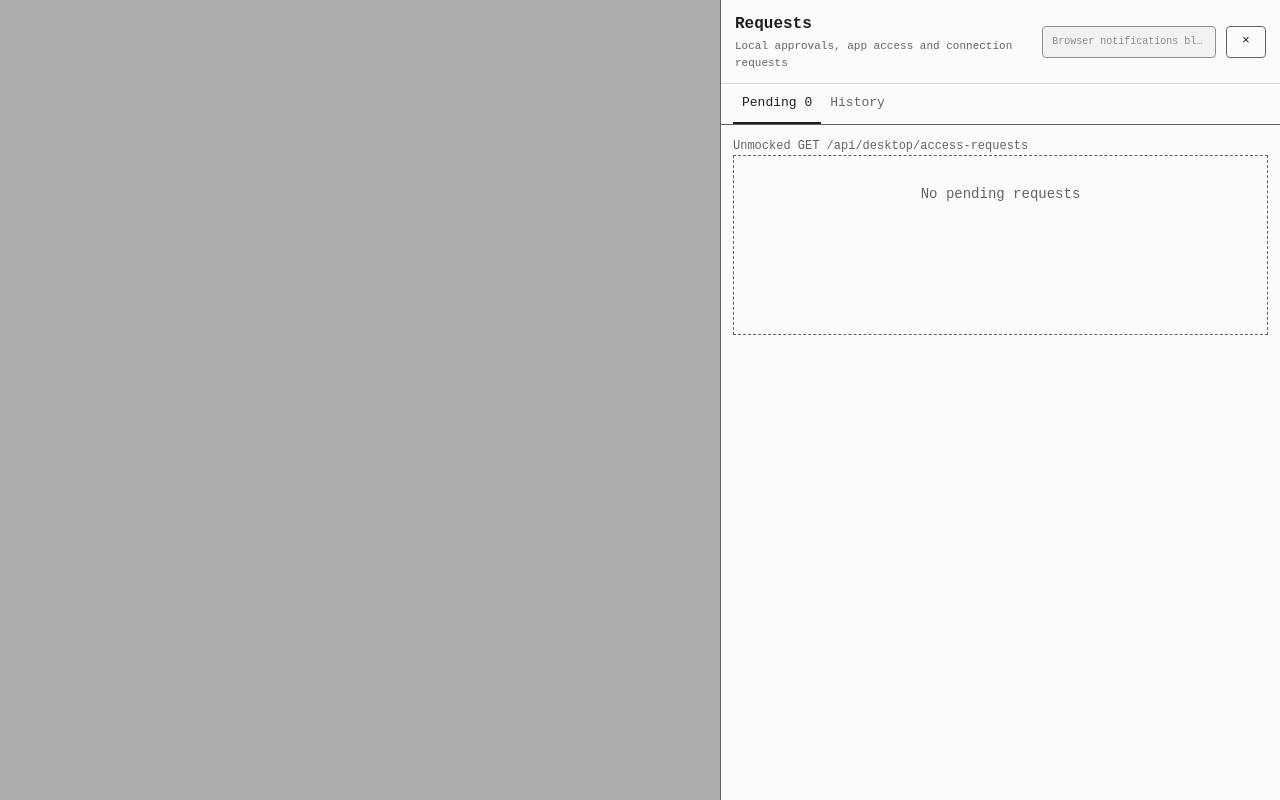
cancelling the clear history dialog makes no request
The width and height of the screenshot is (1280, 800).
Expected: the text "No pending requests" is shown, [733,155,1268,335]
Step 1. Click the button "History" → (858, 104), box [821,84,894,124]
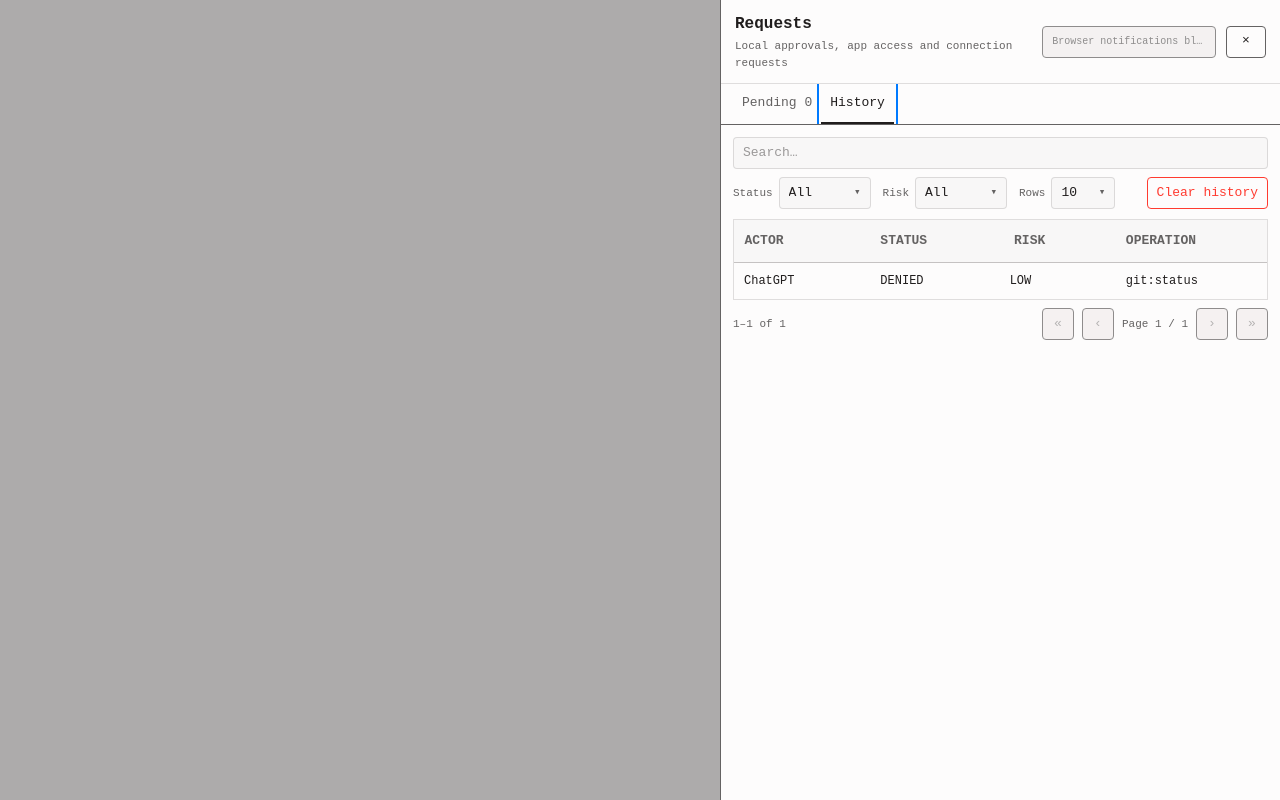
Expected: the button "Clear history" is enabled
Step 2. Click the button "Clear history" → (1207, 193), box [1147,177,1268,209]
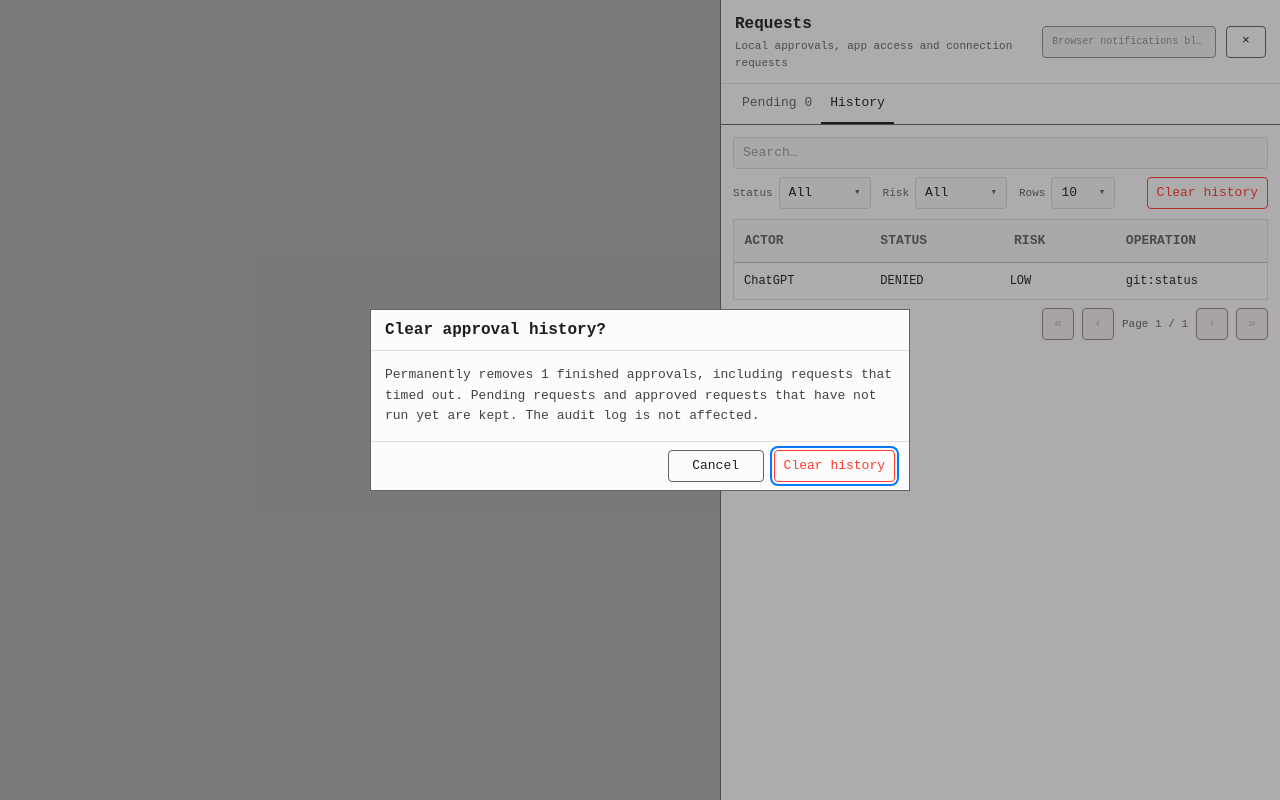
Step 3. Click the button "Cancel" → (716, 466), box [668,450,764,482]
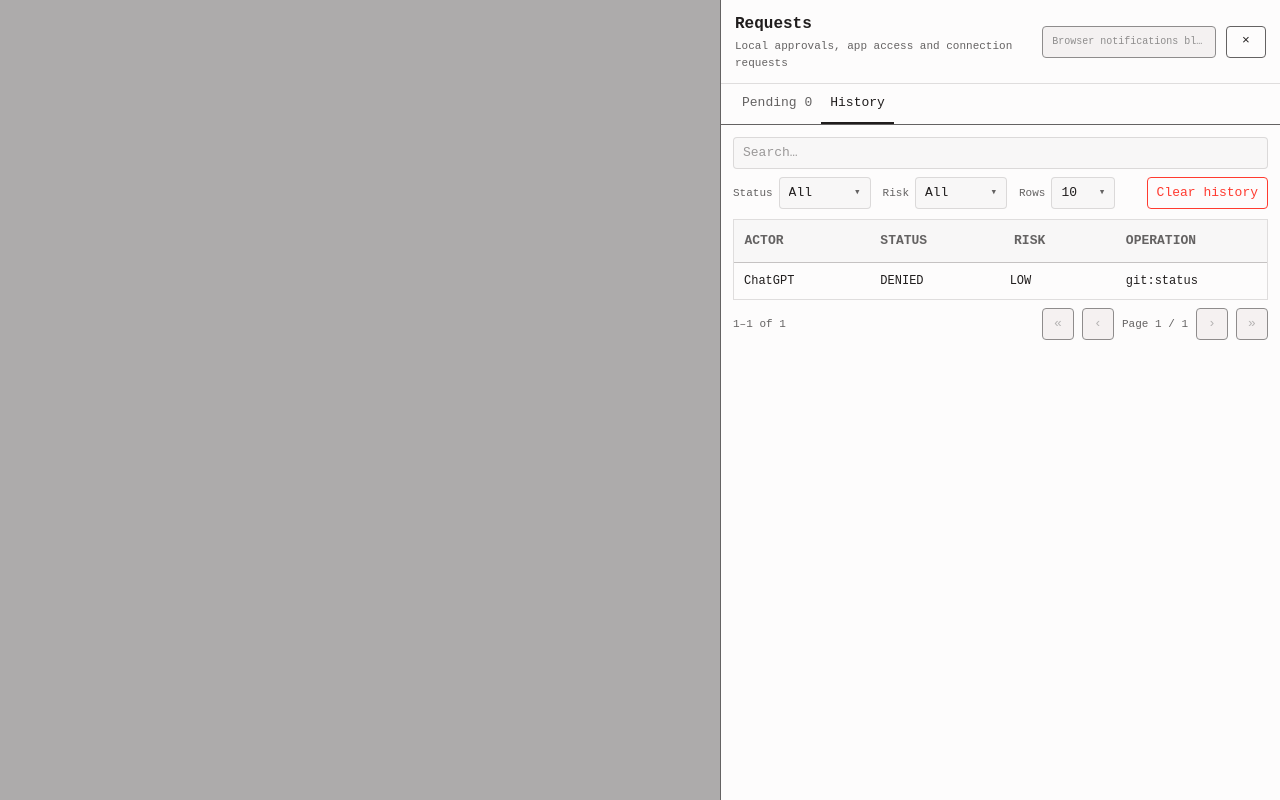
Expected: the dialog is gone
